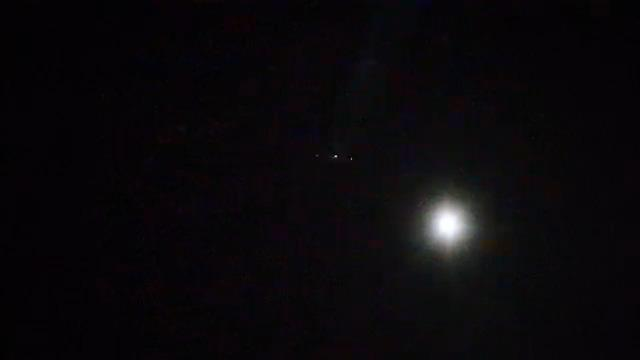Plane: (314, 130, 368, 166)
